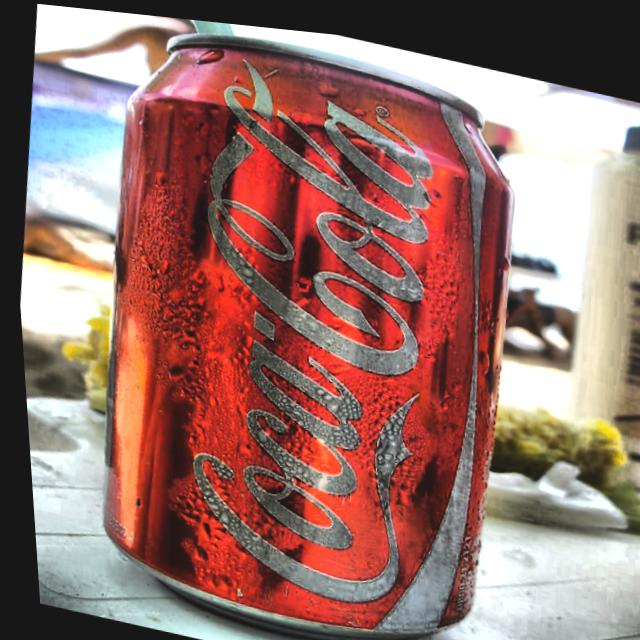Cans: (58, 5, 575, 640)
